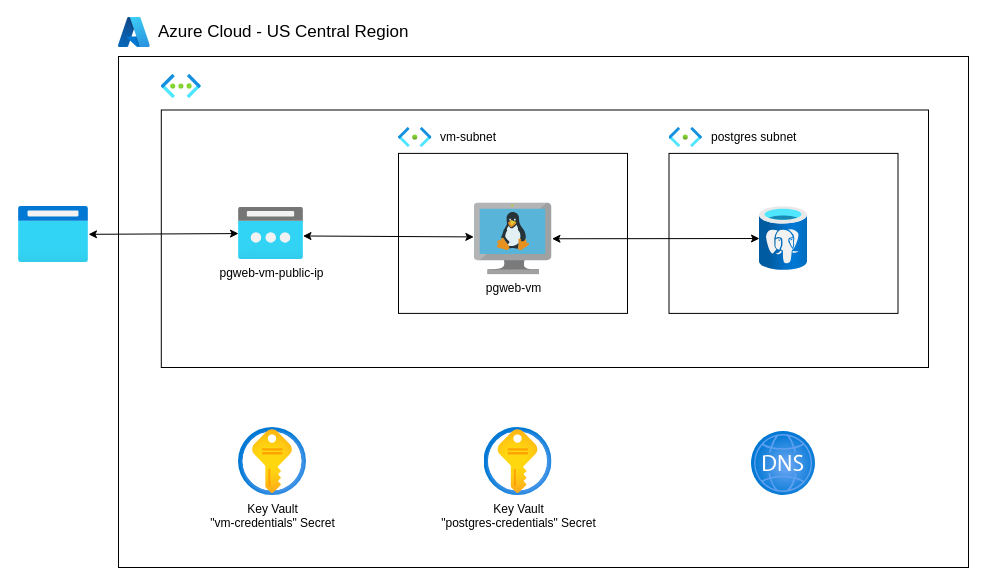
Some shapes in this 986 by 585 pixel diagram are drawn without their labels. Here are the shapes that lost their labels. From the top down, the centre of each, then its label:
At pixel 181 86: "Virtual Network - postgres-vnet".
At pixel 53 234: "Web Browser".
At pixel 783 238: "postgres-instance".
At pixel 783 463: "privatelink.postgres.database.azure.com".
